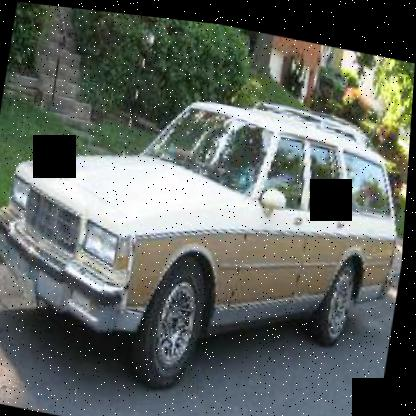not_emergency: (0, 49, 412, 403)
